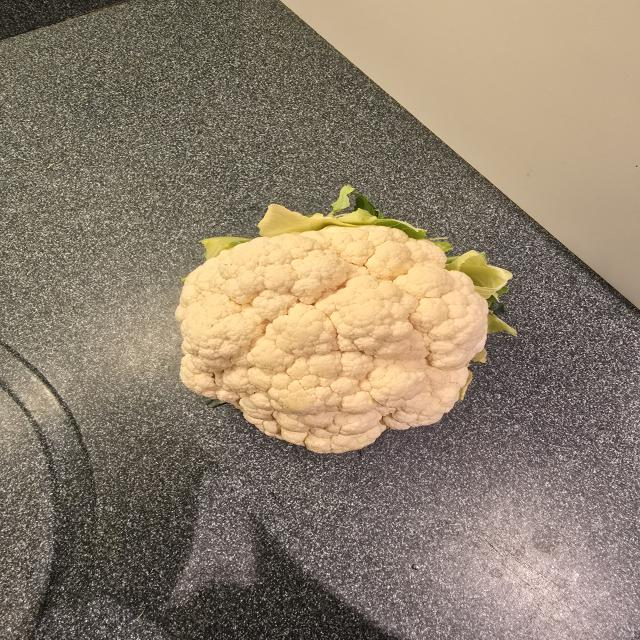Cauliflower: (163, 202, 527, 466)
